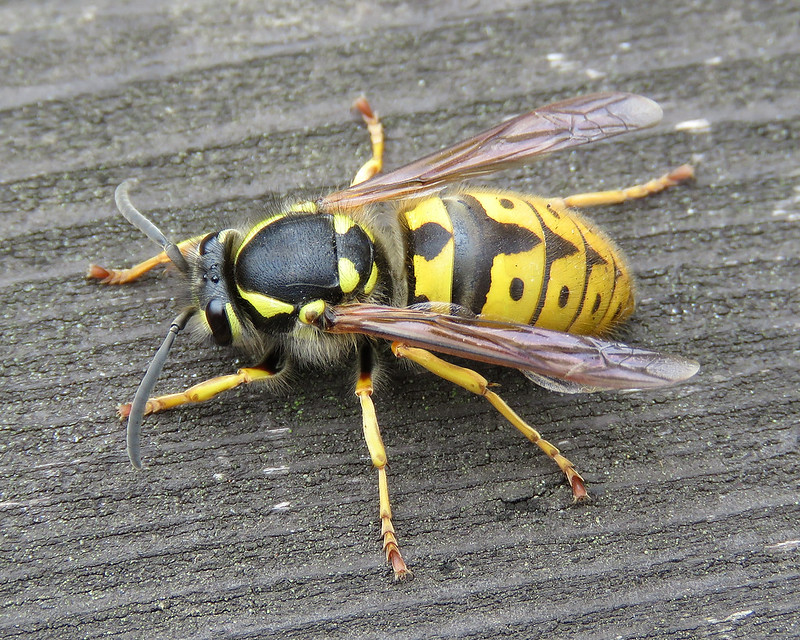chax: (57, 69, 757, 598)
